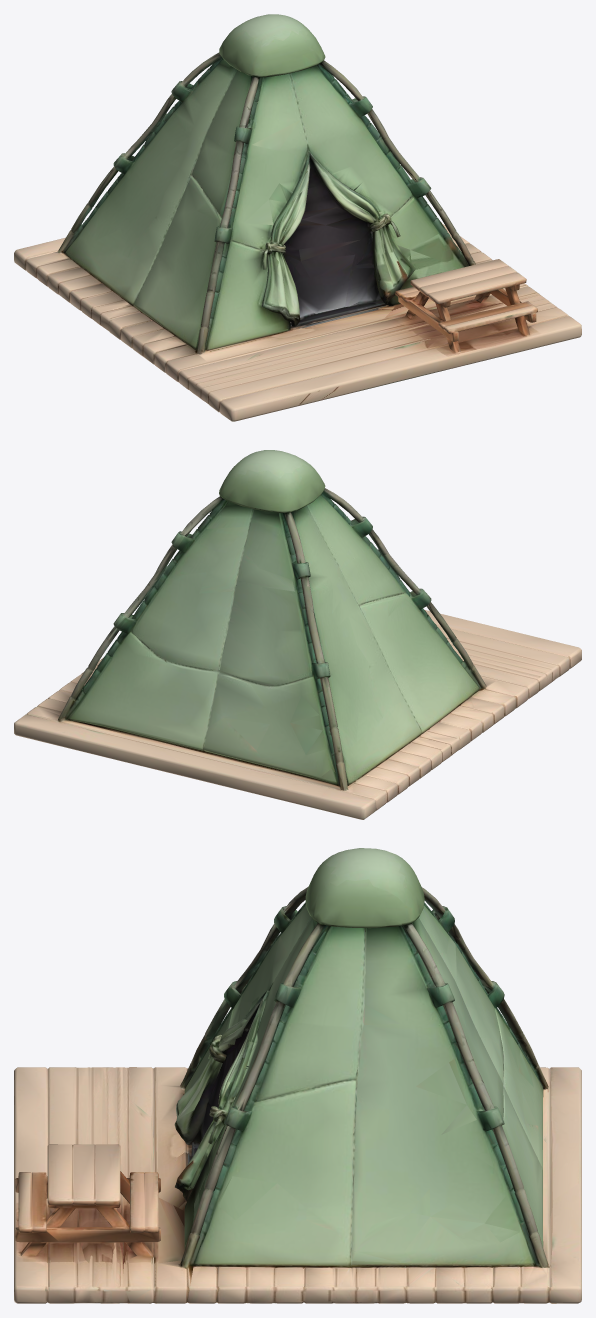
Rendered from tenda-hijau.glb.
The picture shows the model from 3 angles, top to bottom: view 1: azimuth 30°, elevation 25°; view 2: azimuth 150°, elevation 25°; view 3: azimuth 270°, elevation 25°; orthographic projection. The views are drawn at different scales.
Visible parts, largest first — view 1: node_0; view 2: node_0; view 3: node_0.
Boxes of the visible parts, box(x1,y1,x2,y2) form: node_0: box(14, 14, 581, 421); node_0: box(14, 450, 581, 819); node_0: box(14, 848, 581, 1303).
Size of the model in its own units: 0.7386 by 0.5261 by 0.7987.
1 material, 1 textured.
